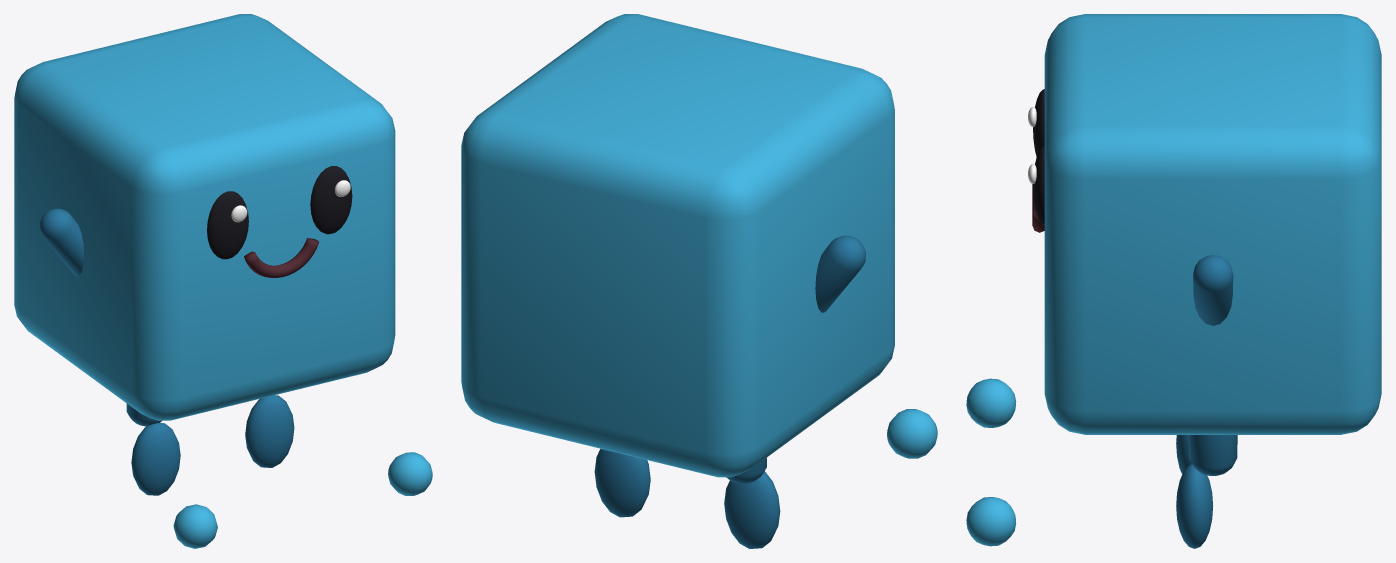
The model's file is Bito.fbx.
The picture shows the model from 3 angles, left to right: view 1: azimuth 30°, elevation 25°; view 2: azimuth 150°, elevation 25°; view 3: azimuth 270°, elevation 25°; orthographic projection. The views are drawn at different scales.
Parts seen in each view (by area): view 1: Bito, Bito_Foot_L, Bito_Foot_R, Bito_Eye_R, Bito_Eye_L, Bito_Arm_L, Bito_Hand_R, Bito_Hand_L, Bito_Mouth; view 2: Bito, Bito_Foot_L, Bito_Foot_R, Bito_Arm_L, Bito_Hand_L; view 3: Bito, Bito_Foot_R, Bito_Arm_R, Bito_Hand_L, Bito_Hand_R, Bito_Leg_R, Bito_Eye_R, Bito_Eye_L.
Boxes of the visible parts, bbox=[...] form: Bito: bbox=[14, 14, 395, 420]; Bito_Foot_L: bbox=[131, 423, 180, 495]; Bito_Foot_R: bbox=[245, 395, 294, 467]; Bito_Eye_R: bbox=[310, 166, 352, 234]; Bito_Eye_L: bbox=[207, 191, 248, 259]; Bito_Arm_L: bbox=[39, 208, 83, 276]; Bito_Hand_R: bbox=[388, 452, 432, 495]; Bito_Hand_L: bbox=[173, 504, 217, 548]; Bito_Mouth: bbox=[244, 238, 319, 277]; Bito: bbox=[461, 14, 894, 477]; Bito_Foot_L: bbox=[724, 471, 780, 548]; Bito_Foot_R: bbox=[594, 449, 650, 517]; Bito_Arm_L: bbox=[815, 235, 865, 312]; Bito_Hand_L: bbox=[887, 409, 937, 458]; Bito: bbox=[1044, 14, 1381, 434]; Bito_Foot_R: bbox=[1176, 464, 1212, 548]; Bito_Arm_R: bbox=[1193, 255, 1233, 325]; Bito_Hand_L: bbox=[966, 378, 1016, 427]; Bito_Hand_R: bbox=[966, 497, 1016, 546]; Bito_Leg_R: bbox=[1188, 435, 1237, 475]; Bito_Eye_R: bbox=[1033, 146, 1044, 225]; Bito_Eye_L: bbox=[1033, 89, 1044, 156].
Bounding box in the file's own units: 1.26 × 1.45 × 1.23.
